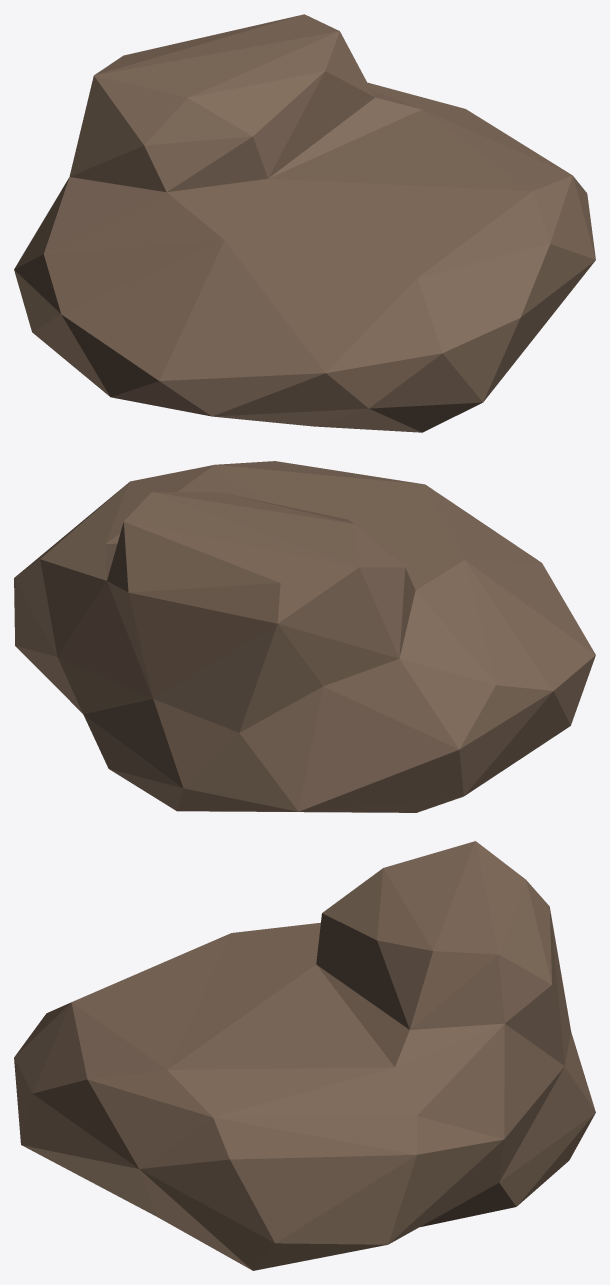
Rendered from LandscapeRock2.fbx.
The picture shows the model from 3 angles, top to bottom: view 1: azimuth 30°, elevation 25°; view 2: azimuth 150°, elevation 25°; view 3: azimuth 270°, elevation 25°; orthographic projection. The views are drawn at different scales.
Parts seen in each view (by area): view 1: LandscapeRock2; view 2: LandscapeRock2; view 3: LandscapeRock2.
Part boxes in pixels (x1=…): LandscapeRock2: x1=14, y1=14, x2=595, y2=432; LandscapeRock2: x1=14, y1=461, x2=595, y2=812; LandscapeRock2: x1=14, y1=841, x2=595, y2=1270.
Size of the model in its own units: 195 by 92.91 by 188.
